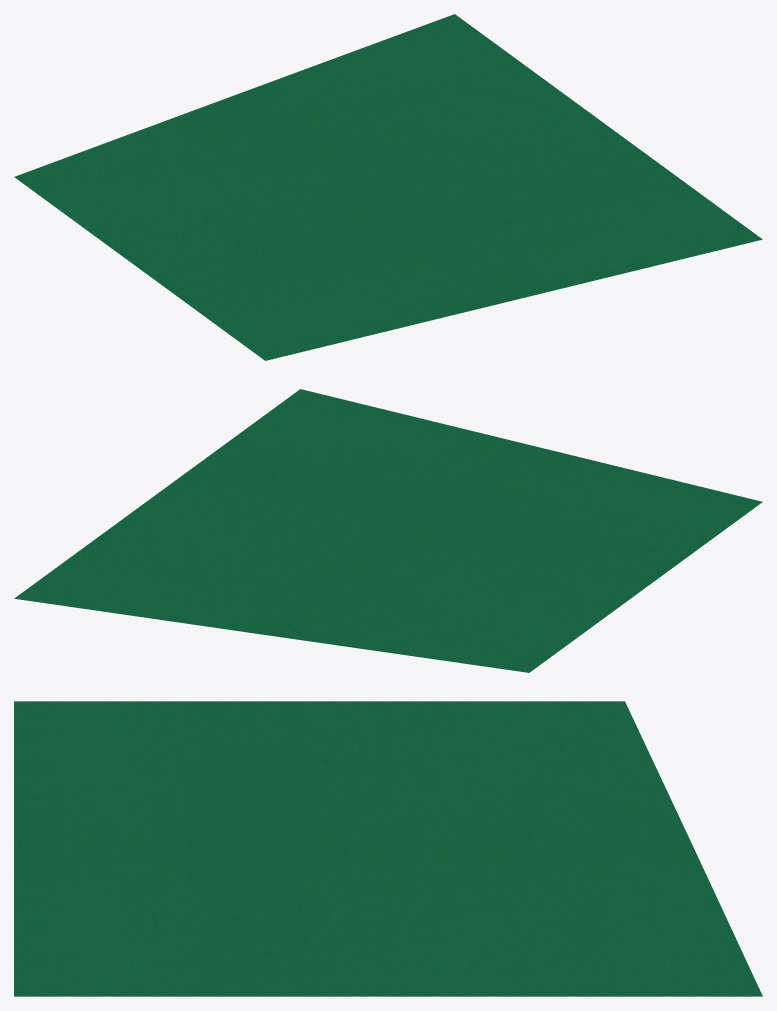
The model's file is VPS_Floor_2.fbx.
The picture shows the model from 3 angles, top to bottom: view 1: azimuth 30°, elevation 25°; view 2: azimuth 150°, elevation 25°; view 3: azimuth 270°, elevation 25°; orthographic projection. The views are drawn at different scales.
Visible parts, largest first — view 1: VSP_FLOOR11; view 2: VSP_FLOOR11; view 3: VSP_FLOOR11.
Part boxes in pixels (x1,y1,x2,y2): VSP_FLOOR11: (14, 14, 762, 360); VSP_FLOOR11: (14, 389, 762, 672); VSP_FLOOR11: (14, 701, 762, 996).
Size of the model in its own units: 4 by 7.55e-08 by 4.29.
1 material, 1 textured.
